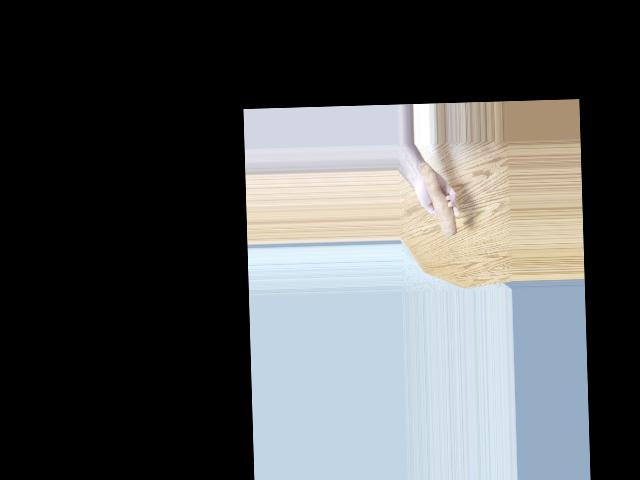sweet_potato: (417, 160, 458, 238)
